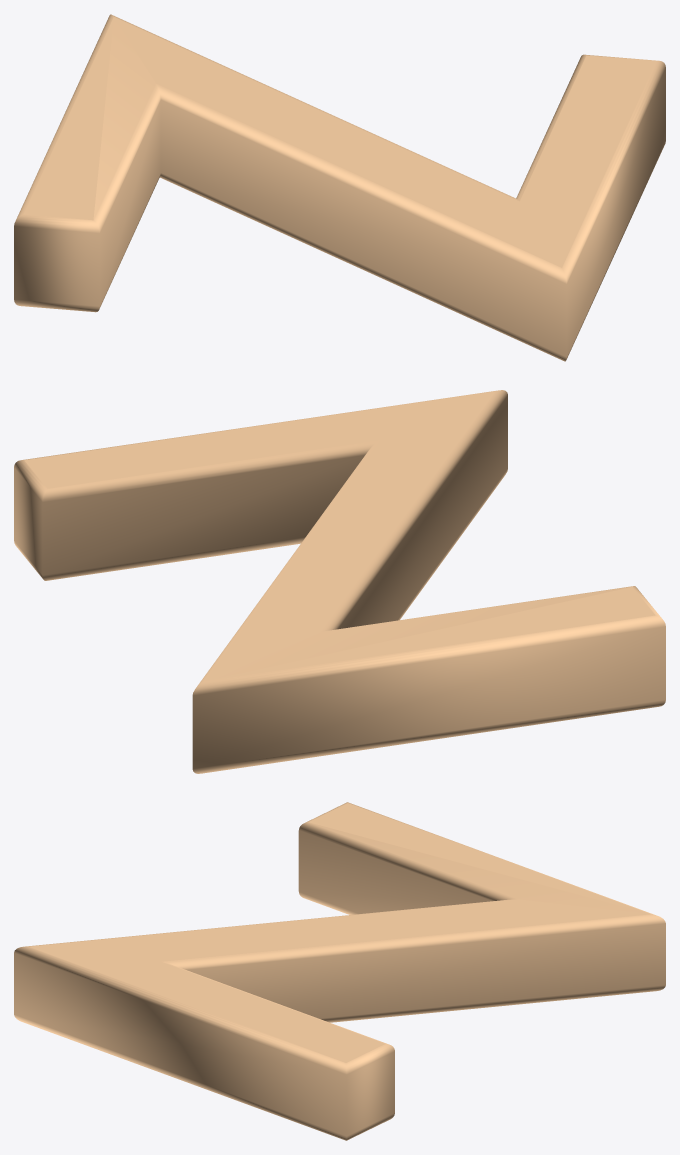
The model's file is ToyObject_149.fbx.
3 renders of one model, top to bottom at view 1: azimuth 30°, elevation 25°; view 2: azimuth 150°, elevation 25°; view 3: azimuth 270°, elevation 25°, orthographic. The views are drawn at different scales.
Visible parts, largest first — view 1: 1; view 2: 1; view 3: 1.
Boxes of the visible parts, x1=… form: 1: x1=14, y1=14, x2=665, y2=361; 1: x1=14, y1=390, x2=665, y2=773; 1: x1=14, y1=802, x2=665, y2=1140.
Size of the model in its own units: 0.2215 by 0.0296 by 0.2276.
